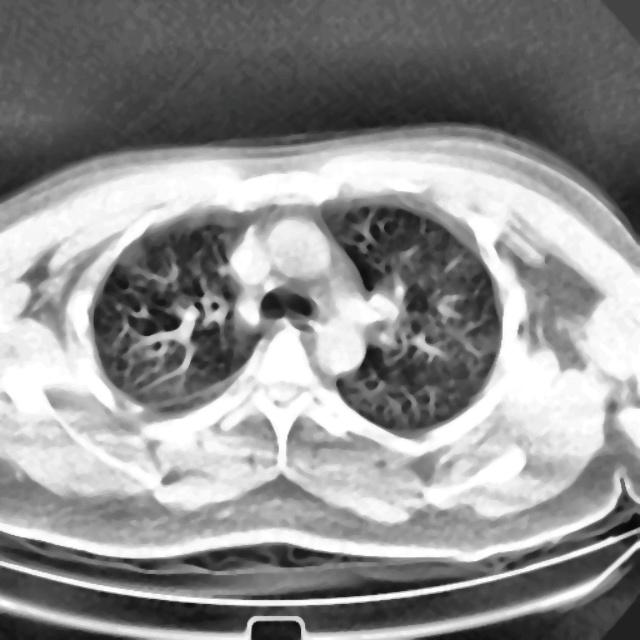covid: (0, 122, 639, 583)
